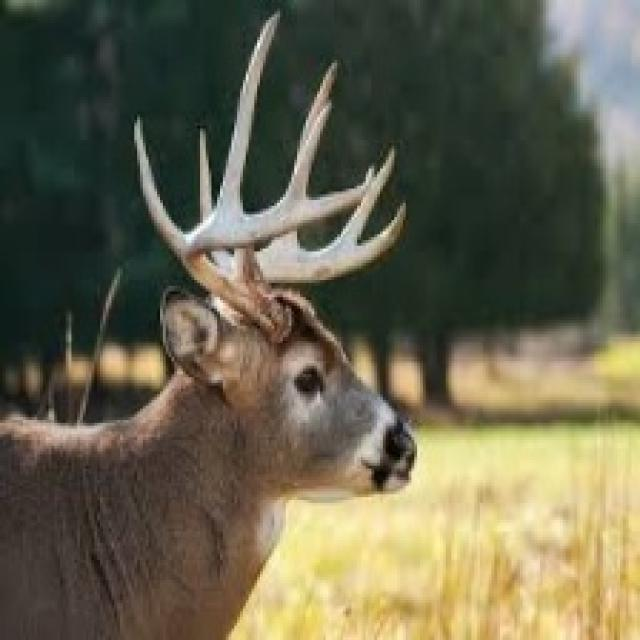bear: (48, 40, 490, 617)
